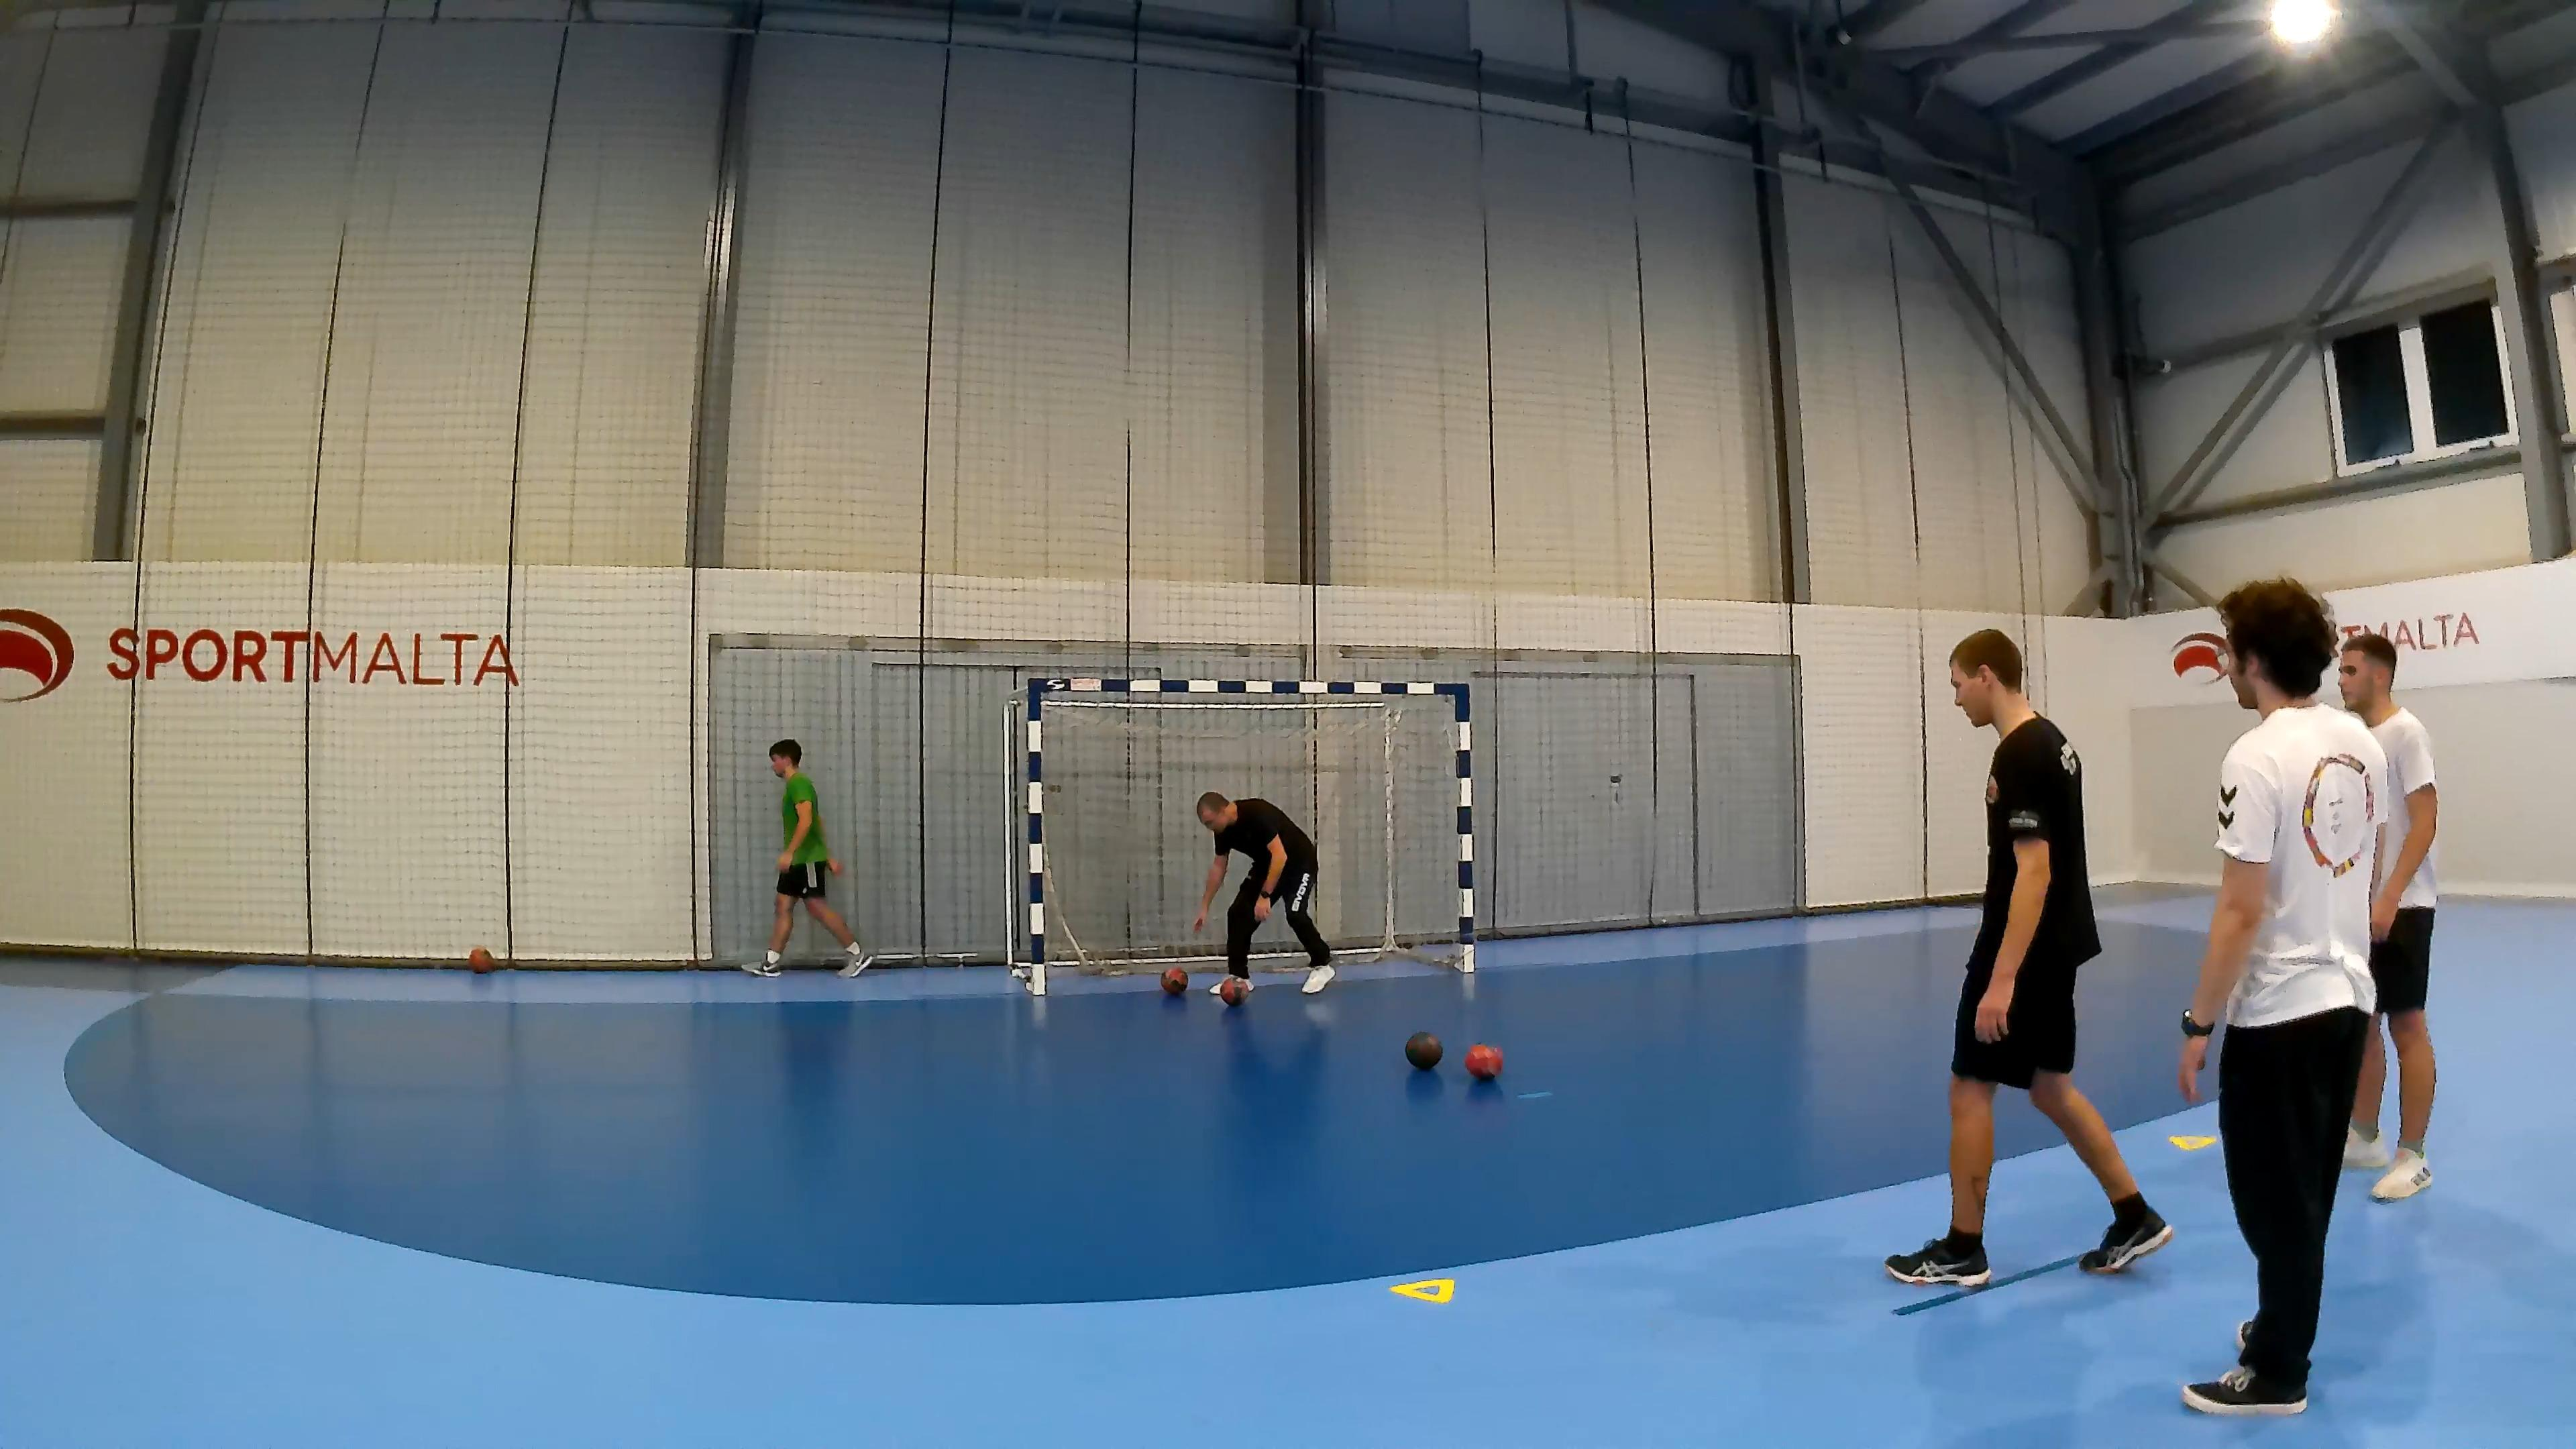handball: (1403, 1030, 1442, 1069), (1463, 1042, 1502, 1079), (1214, 975, 1253, 1005), (1161, 966, 1187, 994)
